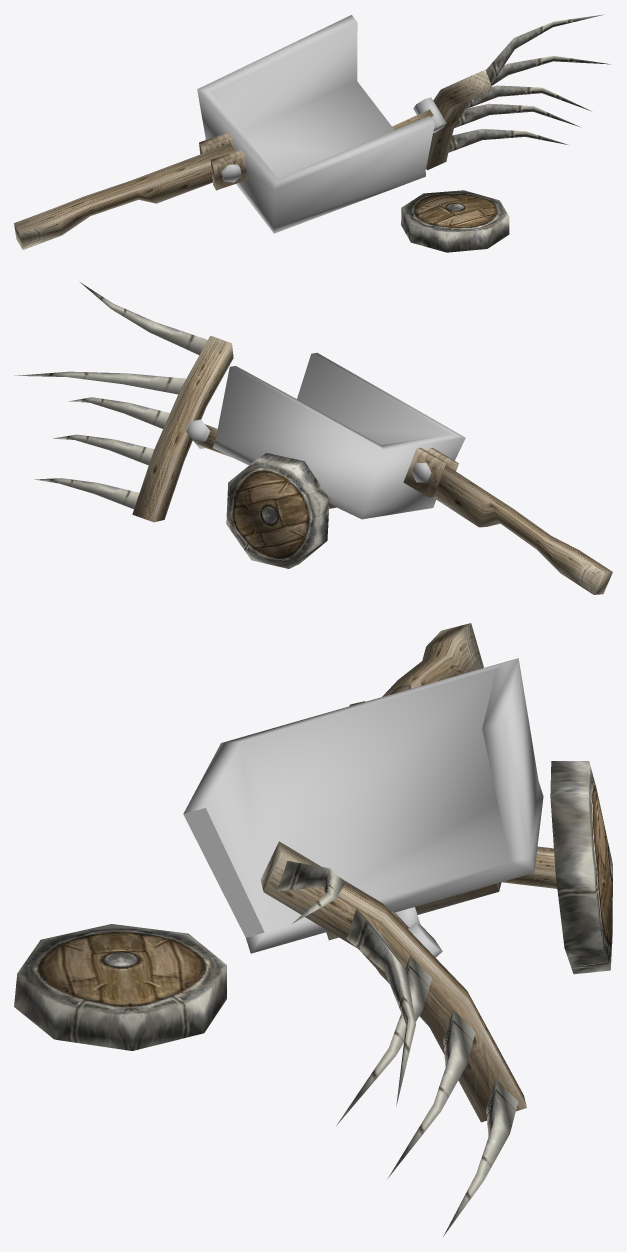
The model's file is rakecart.obj.
3 renders of one model, top to bottom at view 1: azimuth 30°, elevation 25°; view 2: azimuth 150°, elevation 25°; view 3: azimuth 270°, elevation 25°, orthographic. The views are drawn at different scales.
Visible parts, largest first — view 1: Geoset0, Geoset2, Geoset1; view 2: Geoset0, Geoset2, Geoset1; view 3: Geoset0, Geoset2, Geoset1.
Boxes of the visible parts, x1,y1,x2,y2 form: Geoset0: (197, 15, 446, 233); Geoset2: (401, 14, 610, 252); Geoset1: (14, 69, 493, 249); Geoset0: (186, 353, 465, 519); Geoset2: (14, 282, 329, 568); Geoset1: (132, 335, 612, 594); Geoset0: (183, 658, 543, 983); Geoset2: (14, 761, 612, 1236); Geoset1: (260, 623, 557, 1122).
Bounding box in the file's own units: 12.08 × 3.34 × 5.59.
